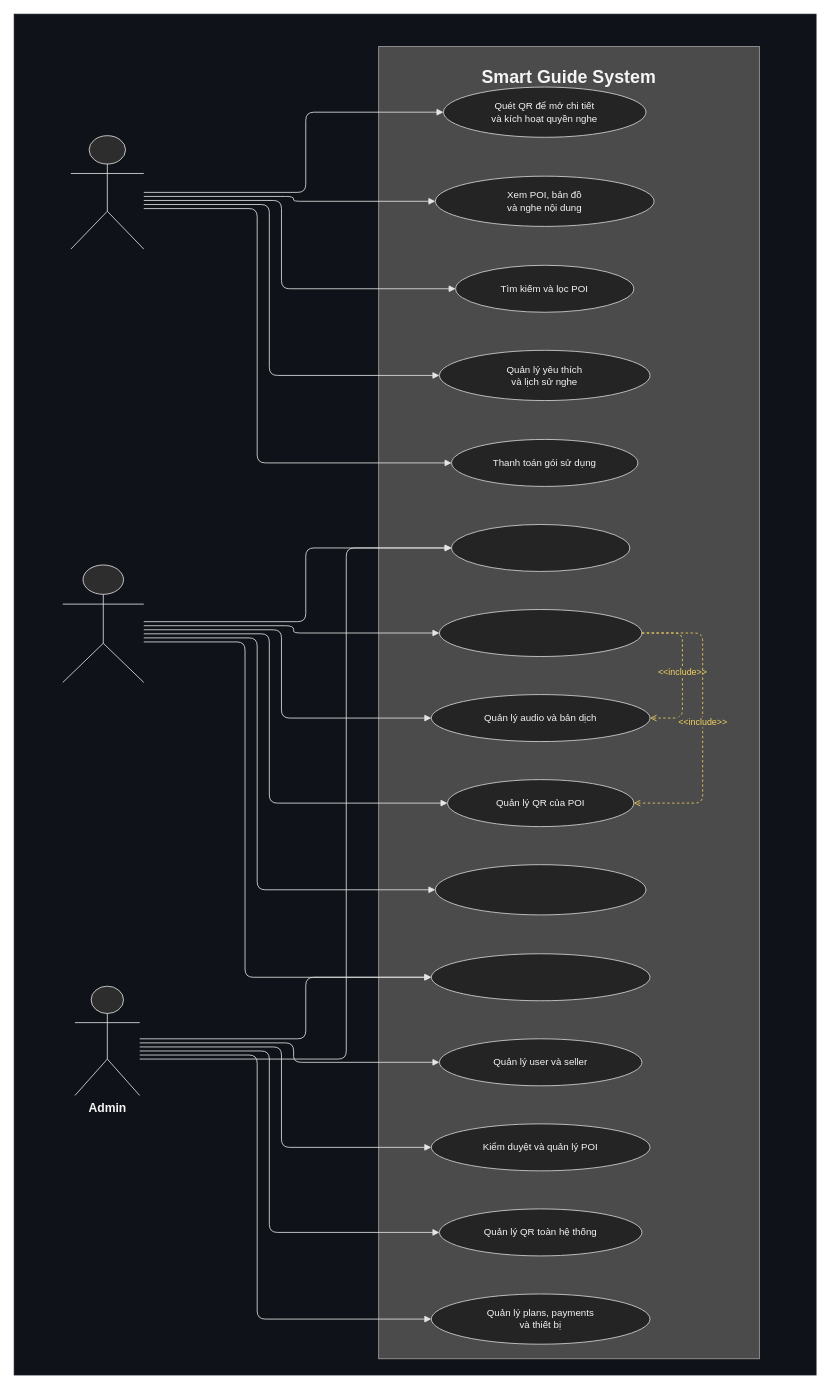
Image size: 830x1389. Some labels were removed from this diagram. Here are the shapes that lost their labels. From the top down, the centre of each, then its label:
At pixel 107 192: "User / Guest".
At pixel 540 547: "Đăng nhập / đăng ký".
At pixel 103 623: "Seller / Owner".
At pixel 540 633: "Quản lý POI".
At pixel 540 889: "Theo dõi giao dịch và nâng cấp POI".
At pixel 540 977: "Xem dashboard và analytics".
